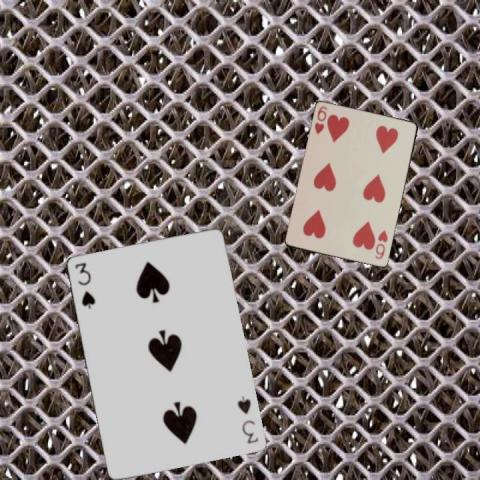3s: (235, 393, 260, 446), (72, 259, 97, 311)
6h: (372, 227, 390, 261), (311, 103, 329, 136)
